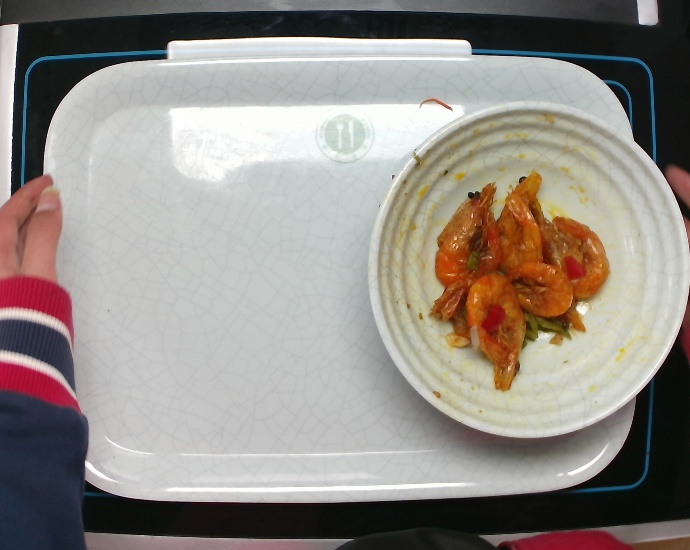JYsf-Da_Tang_Wan: (360, 91, 690, 443)
